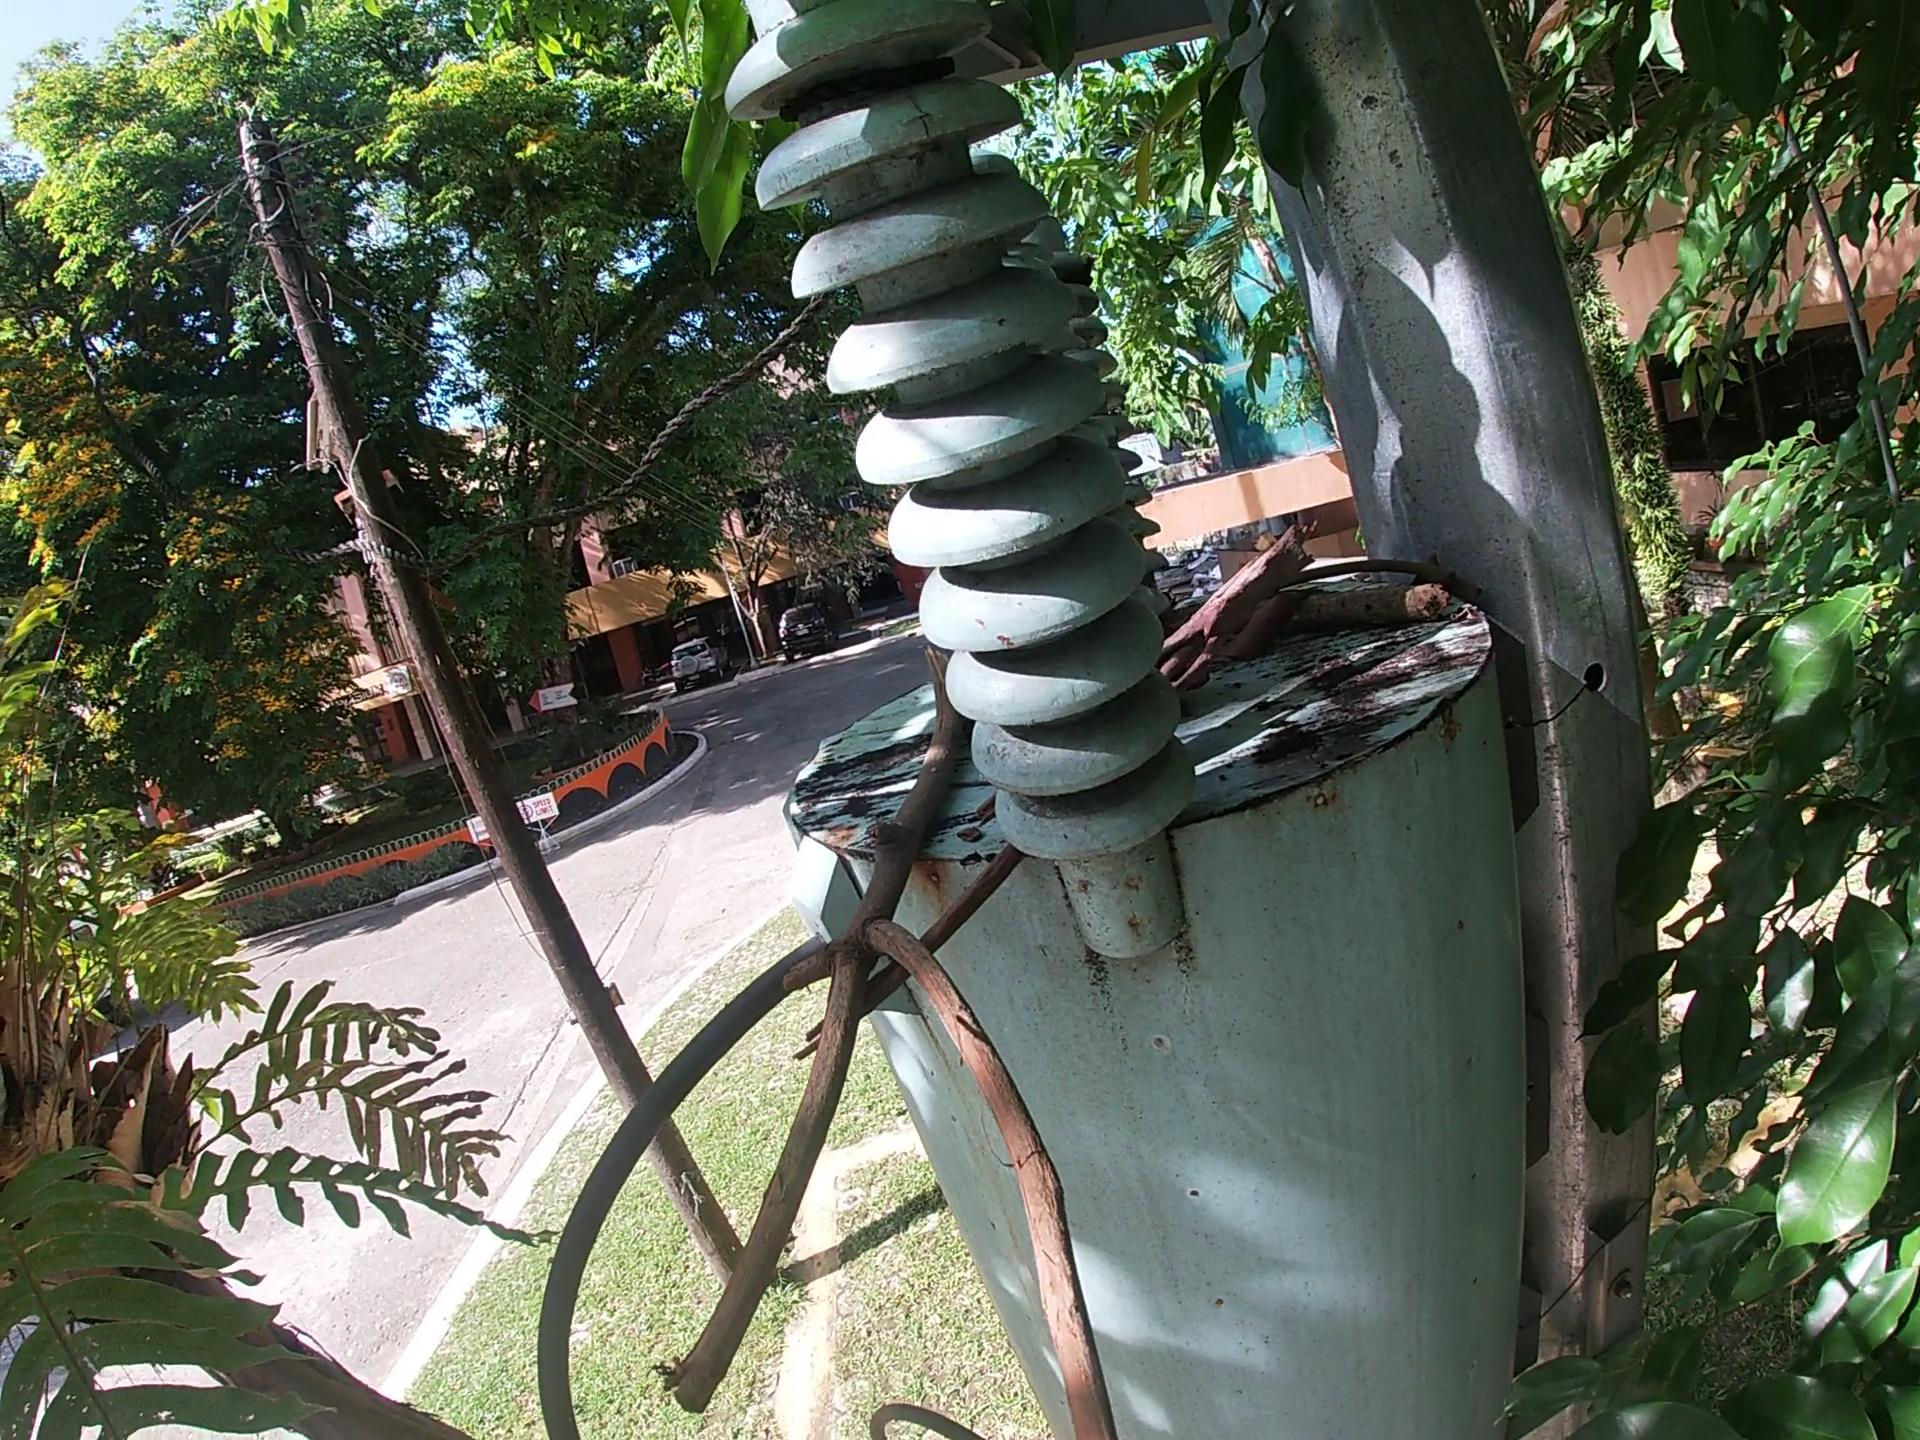leaf: (1225, 597, 1300, 653)
tree branch: (649, 632, 1123, 1435), (807, 852, 1025, 1041), (1158, 528, 1324, 694), (1284, 576, 1488, 619), (1281, 555, 1457, 590), (1160, 579, 1231, 634), (968, 796, 1008, 830), (943, 771, 1007, 793)
